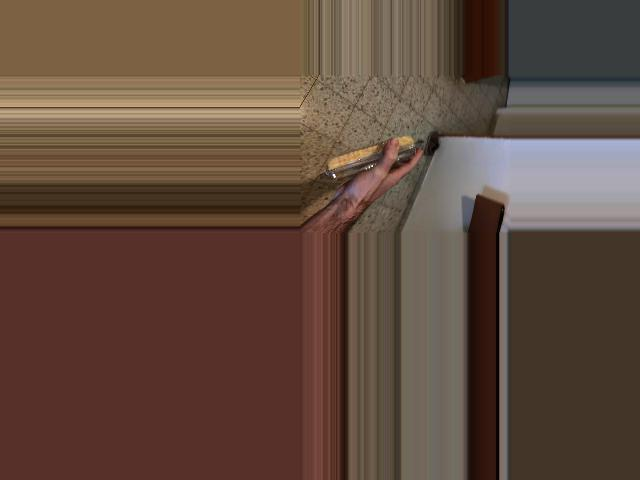cheese: (335, 123, 428, 204)
